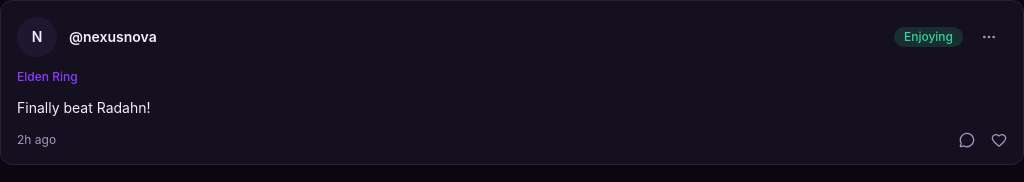
Test: PostCard — ... menu › opens dropdown with Edit and Delete on ... click
Step 1. Click the button named "post options" → {"x": 989, "y": 37}, box 971,19 -> 1007,55
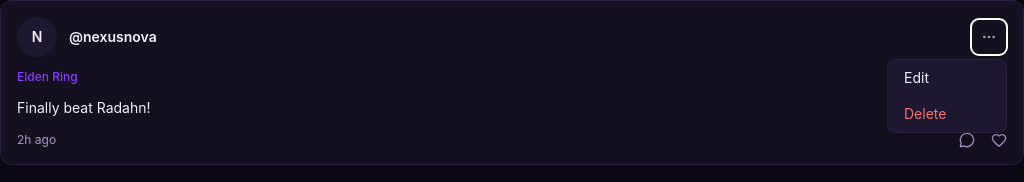
expect the button "Edit" is shown: met, box 888,60 -> 1006,96
expect the button "Delete" is shown: met, box 888,96 -> 1006,132
